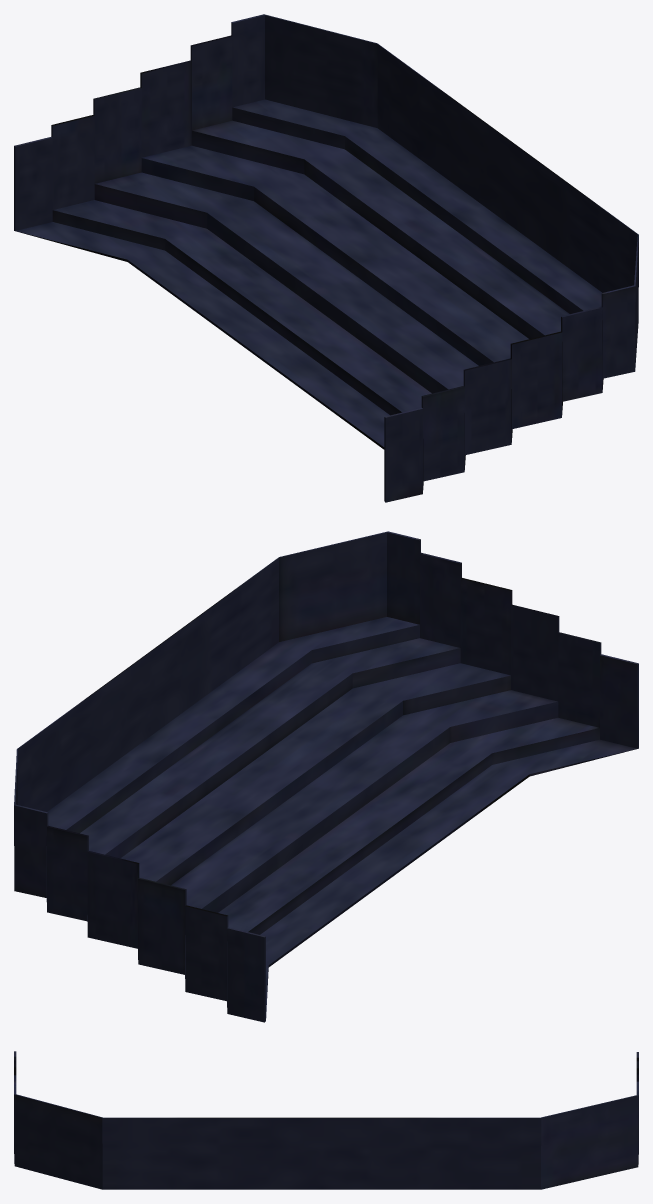
The model's file is c-bleachers.dae.
The picture shows the model from 3 angles, top to bottom: view 1: azimuth 30°, elevation 25°; view 2: azimuth 150°, elevation 25°; view 3: azimuth 270°, elevation 25°; orthographic projection. The views are drawn at different scales.
Parts seen in each view (by area): view 1: Plane; view 2: Plane; view 3: Plane.
Boxes of the visible parts, left/top/right/bottom form: Plane: left=14, top=14, right=638, bottom=502; Plane: left=14, top=531, right=638, bottom=1022; Plane: left=14, top=1051, right=638, bottom=1189.
Size of the model in its own units: 1.36 by 2.86 by 0.67.
1 material, 1 textured.
